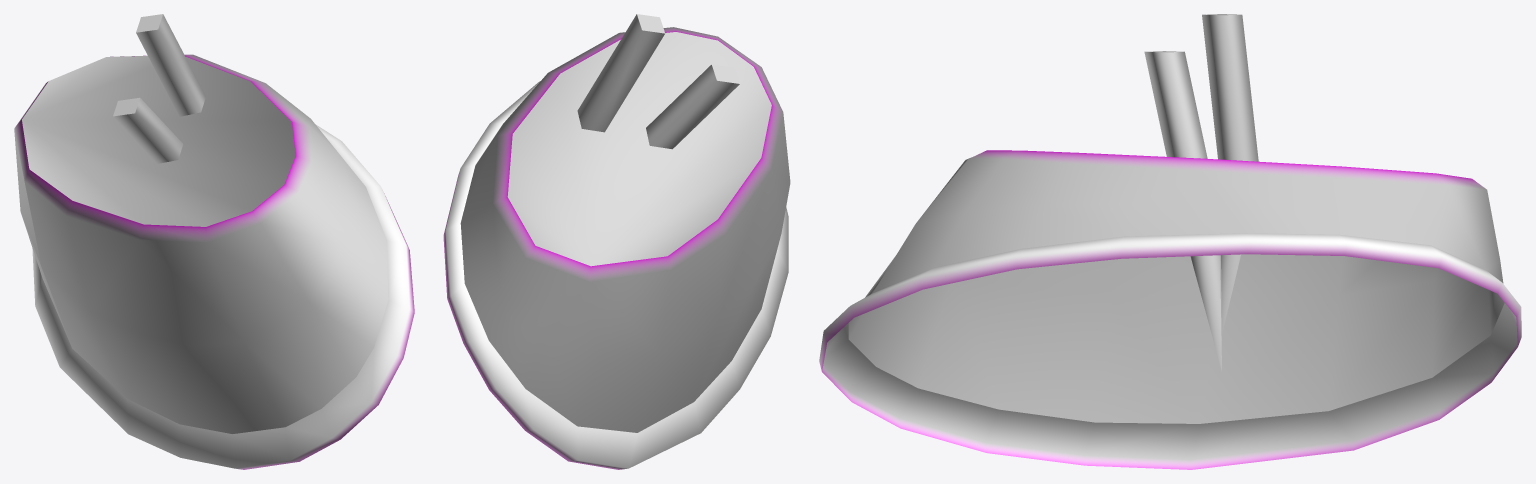
The model's file is Car_Mini_CountrymanJCW_2017_MirrorBaseR_SetA.fbx.
3 views of the same model, side by side, from view 1: azimuth 30°, elevation 25°; view 2: azimuth 150°, elevation 25°; view 3: azimuth 270°, elevation 25° (orthographic). The views are drawn at different scales.
Parts seen in each view (by area): view 1: MirrorBaseR 6; view 2: MirrorBaseR 6; view 3: MirrorBaseR 6.
Boxes of the visible parts, x1,y1,x2,y2 form: MirrorBaseR 6: (14,14,414,469); MirrorBaseR 6: (443,14,790,469); MirrorBaseR 6: (819,14,1521,469).
Bounding box in the file's own units: 0.075 × 0.1252 × 0.1671.
